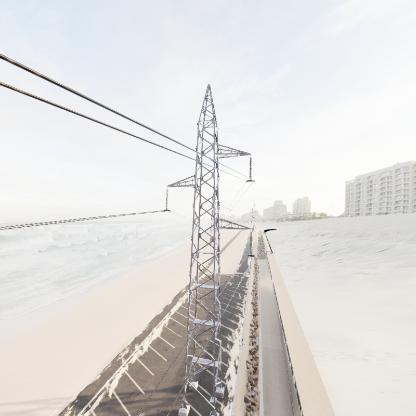tower: (162, 83, 258, 416)
